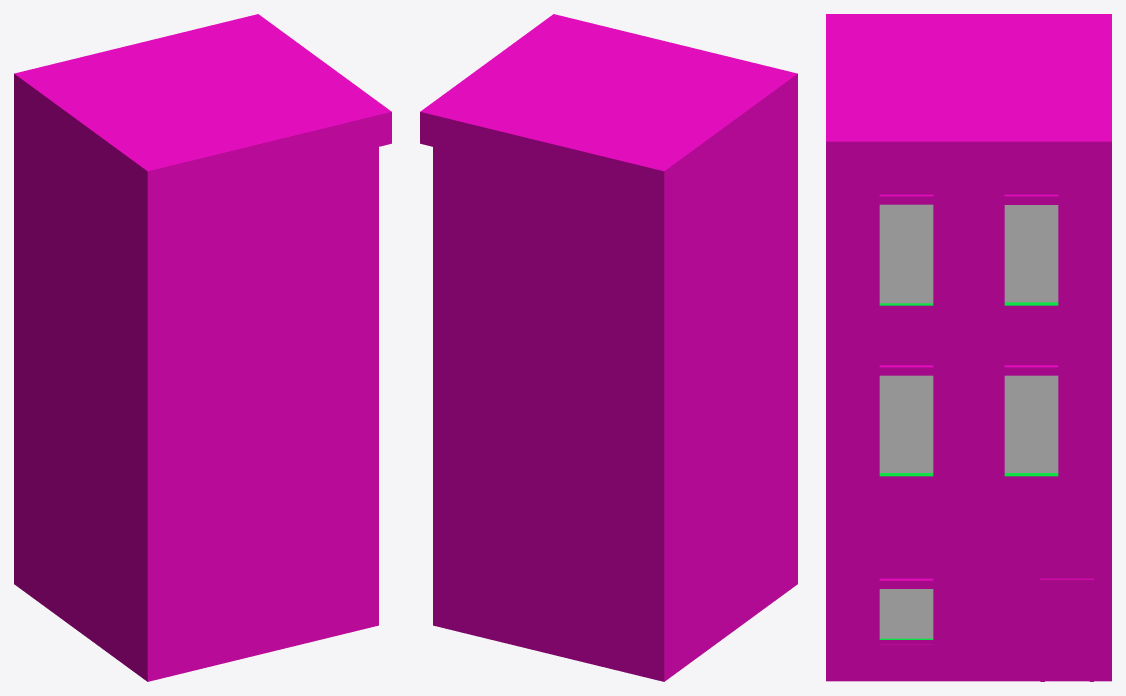
Rendered from Straight_coderclass_samenwerk_opdracht.fbx.
3 renders of one model, left to right at view 1: azimuth 30°, elevation 25°; view 2: azimuth 150°, elevation 25°; view 3: azimuth 270°, elevation 25°, orthographic. The views are drawn at different scales.
Visible parts, largest first — view 1: Cube, Cube.001; view 2: Cube; view 3: Cube.
Part boxes in pixels (x1,y1,x2,y2): Cube: (14, 14, 391, 681); Cube.001: (148, 167, 377, 681); Cube: (420, 14, 797, 681); Cube: (826, 14, 1111, 681).
Bounding box in the file's own units: 211 × 422 × 200.
